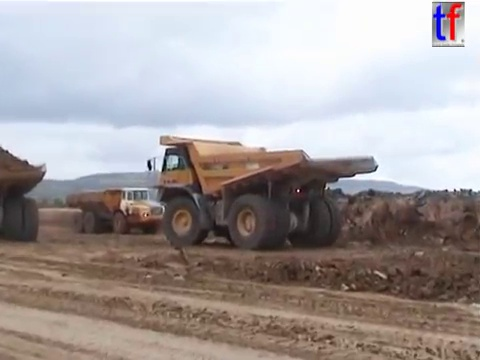truck: (145, 133, 382, 251), (64, 185, 168, 236), (1, 156, 49, 245)
